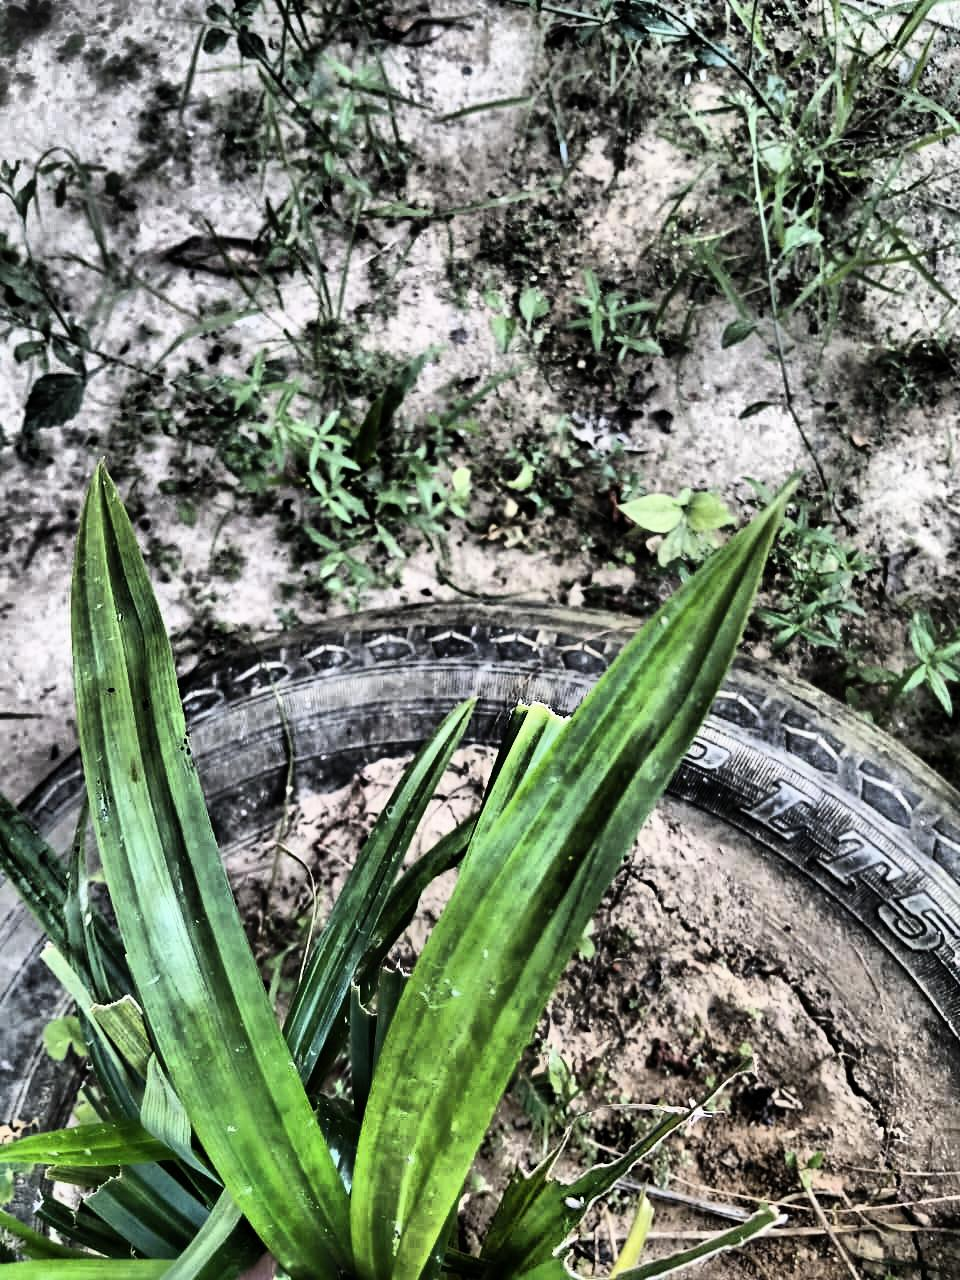daun pandan: (0, 465, 791, 1279)
